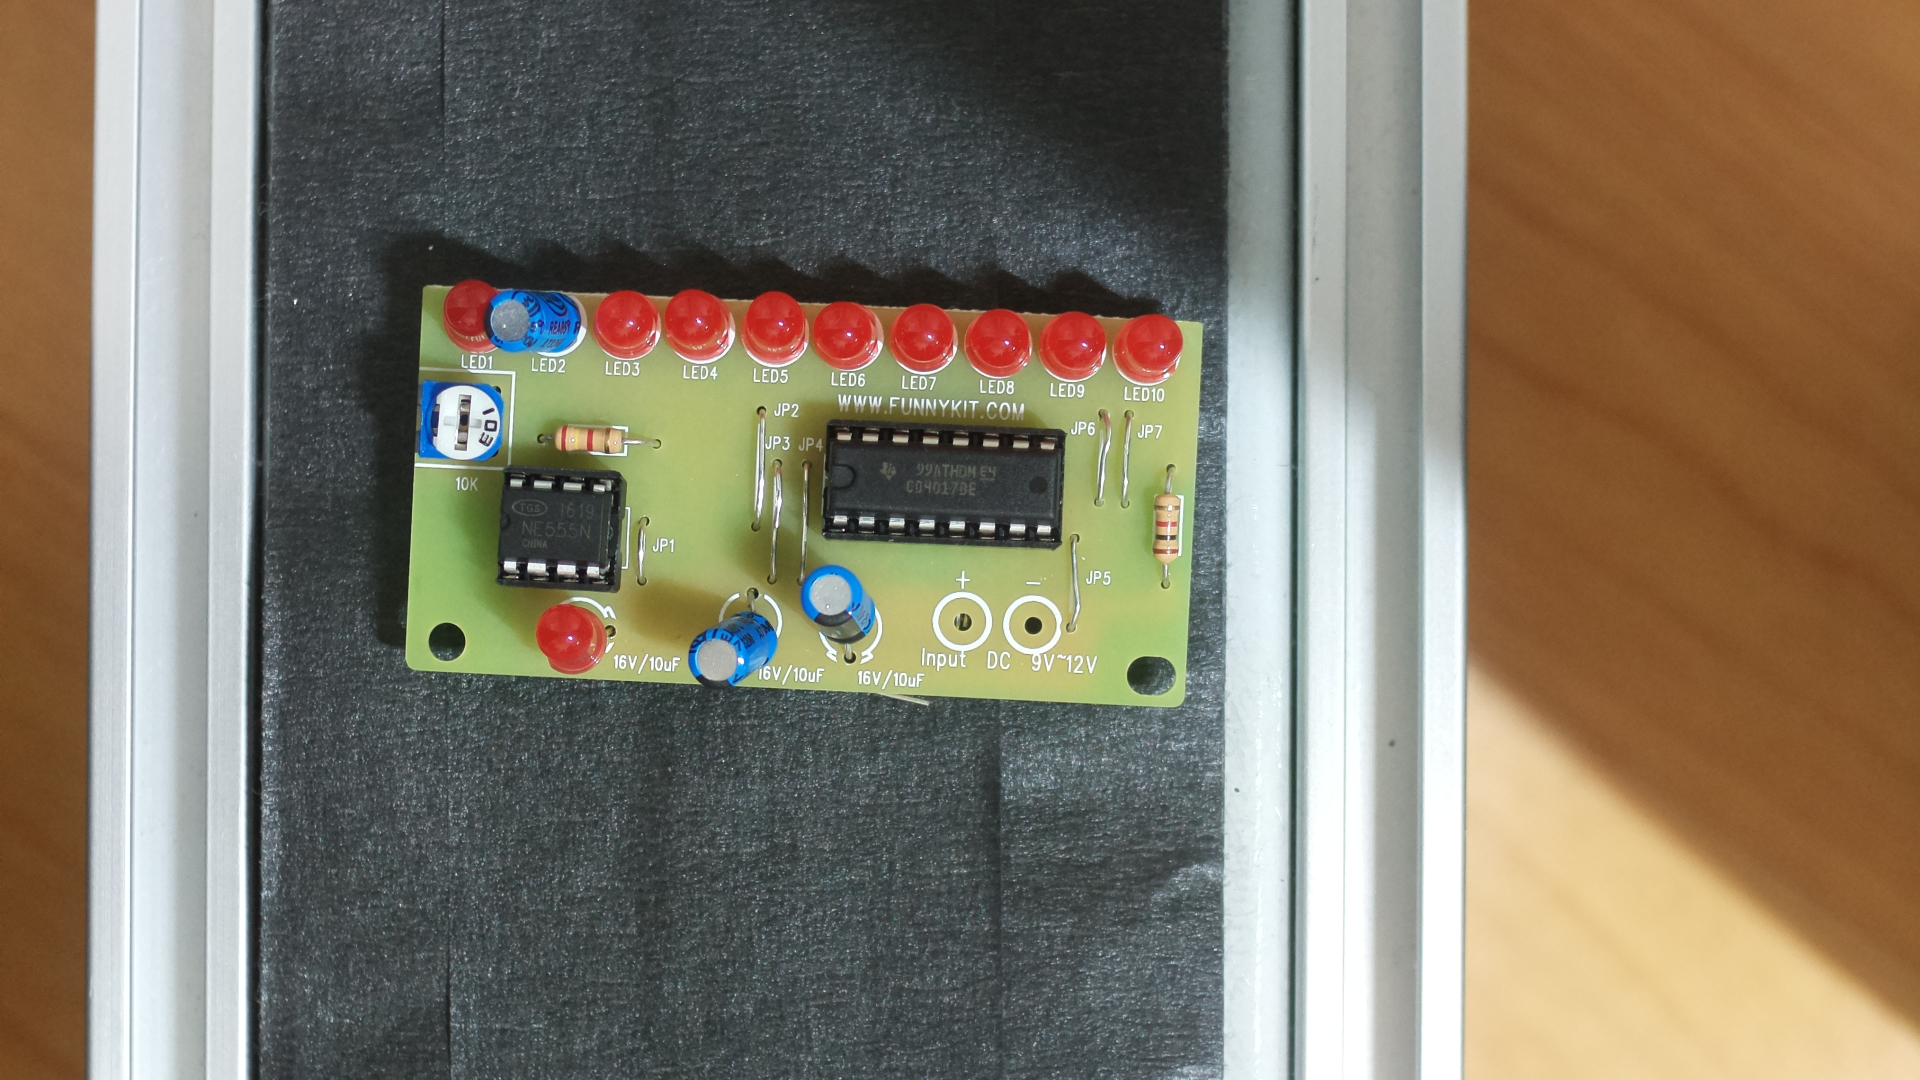B_Misordered: (396, 246, 1205, 725)
